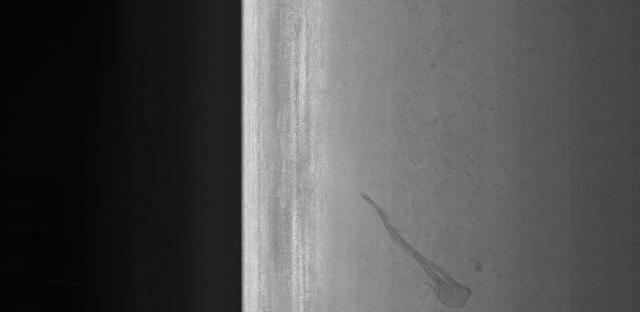silk_spot: (387, 21, 504, 200)
water_spot: (351, 184, 496, 312)
